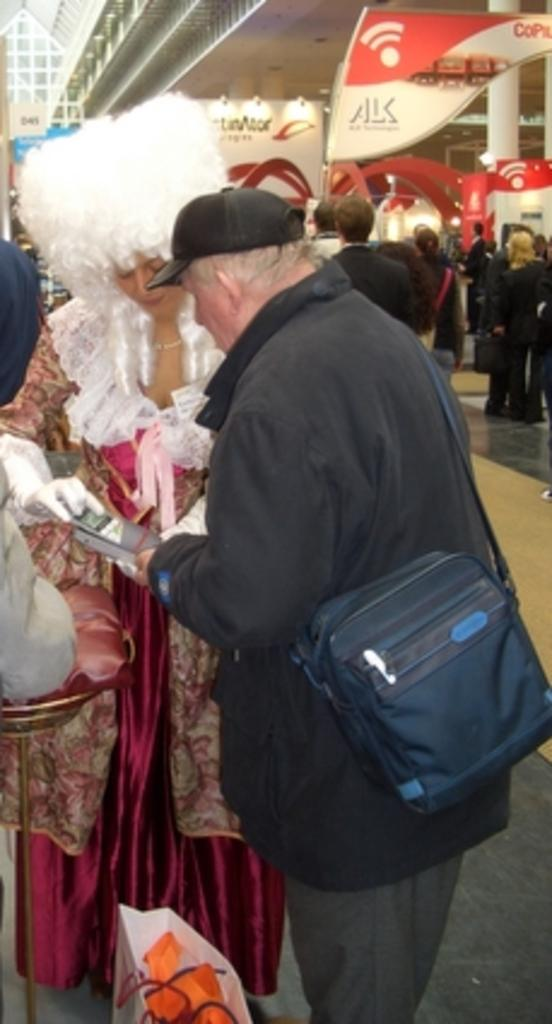Luggage-and-bags: (277, 323, 550, 810)
